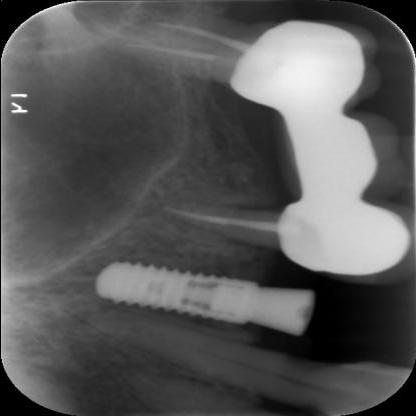ITI: (84, 247, 275, 331)
